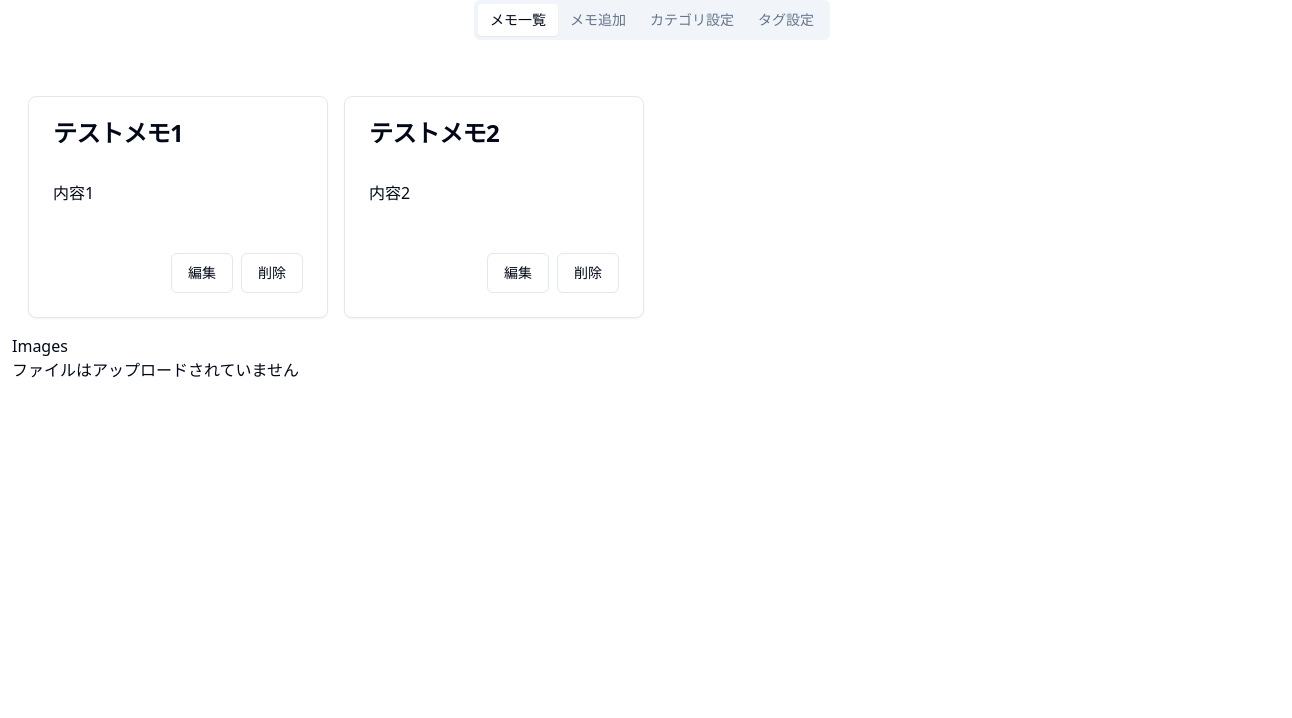
Test: MemoManager › メモ追加ボタンクリックでダイアログを開く
This screenshot has width=1292, height=718.
「メモ追加」タブをクリックしてアクティブにする
Click the tab "メモ追加": {"x": 598, "y": 20} [558,4,638,36]
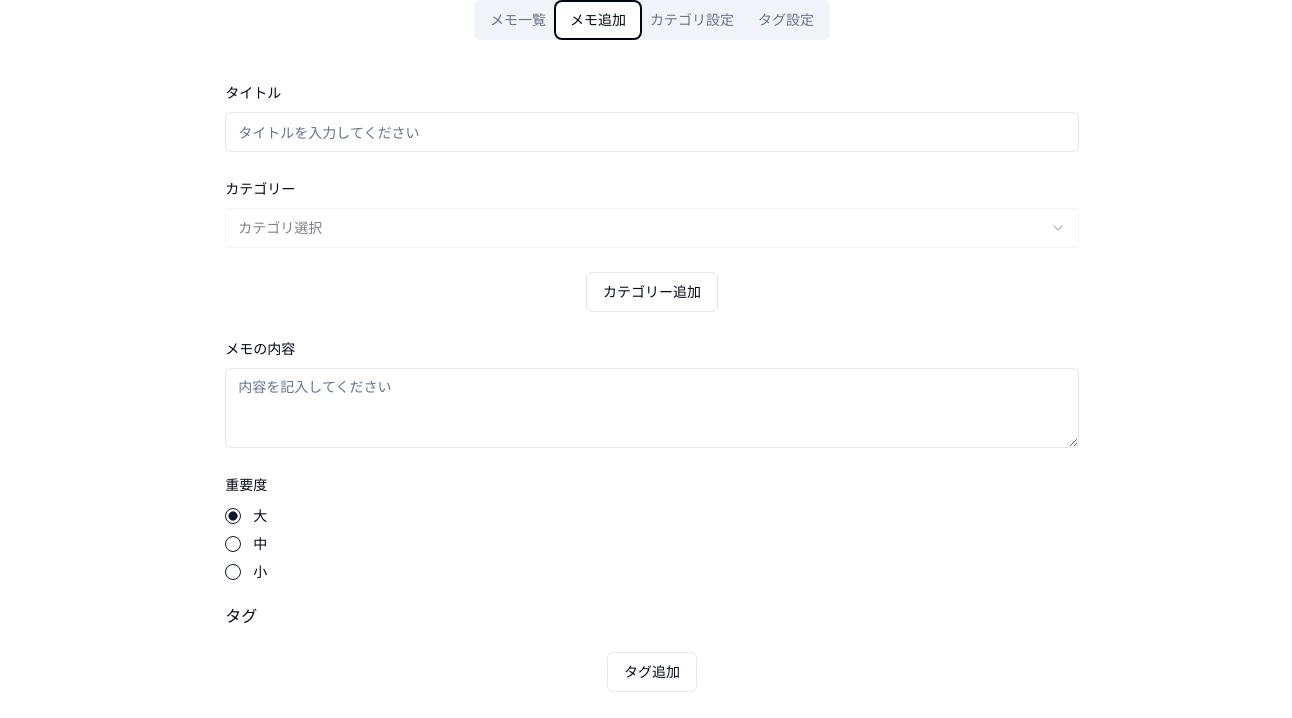
Expected: the field labelled "タイトル" is shown, [225,112,1079,152]
